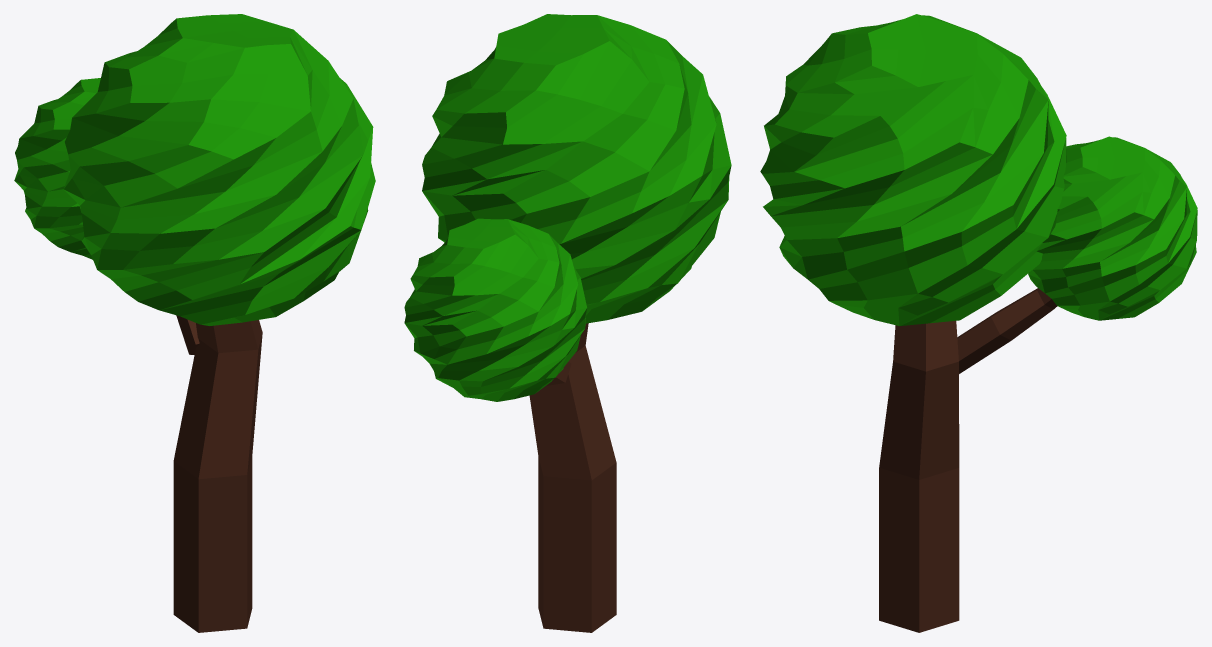
The model's file is tree2.fbx.
The picture shows the model from 3 angles, left to right: view 1: azimuth 30°, elevation 25°; view 2: azimuth 150°, elevation 25°; view 3: azimuth 270°, elevation 25°; orthographic projection.
Visible parts, largest first — view 1: Platonic_1, Cylinder, Platonic, Cylinder_1; view 2: Platonic_1, Platonic, Cylinder; view 3: Platonic_1, Cylinder, Platonic, Cylinder_1.
Part boxes in pixels (left/top/right/bottom): Platonic_1: left=63, top=14, right=375, bottom=325; Cylinder: left=173, top=320, right=262, bottom=632; Platonic: left=14, top=78, right=100, bottom=259; Cylinder_1: left=176, top=315, right=199, bottom=354; Platonic_1: left=422, top=14, right=731, bottom=323; Platonic: left=404, top=218, right=586, bottom=401; Cylinder: left=529, top=323, right=616, bottom=632; Platonic_1: left=760, top=14, right=1066, bottom=326; Cylinder: left=879, top=321, right=959, bottom=632; Platonic: left=1028, top=136, right=1197, bottom=320; Cylinder_1: left=957, top=288, right=1057, bottom=373.
Size of the model in its own units: 370 by 765 by 519.
